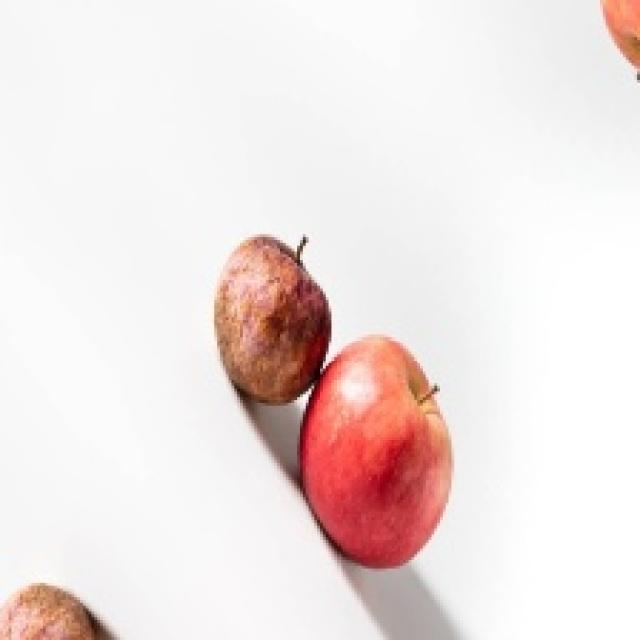rotten_apple: (217, 234, 328, 399)
